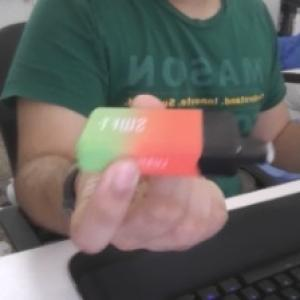Swift-E-Ciggirate: (72, 104, 278, 183)
